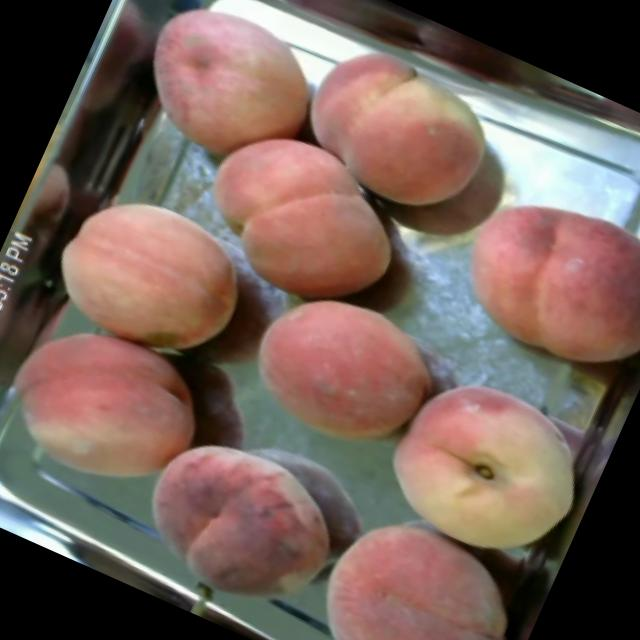Fruit: (104, 396, 380, 640), (358, 340, 618, 584), (172, 97, 436, 337), (269, 12, 525, 250), (220, 258, 468, 488), (32, 162, 276, 380), (430, 158, 640, 406), (0, 299, 228, 523), (110, 0, 343, 192), (277, 487, 552, 640)
